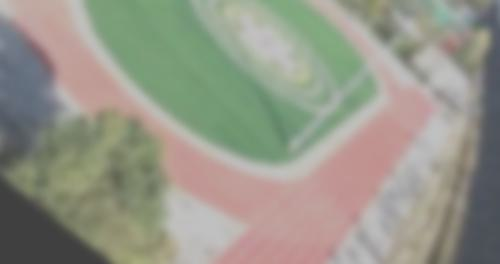Apron: (186, 1, 340, 119)
